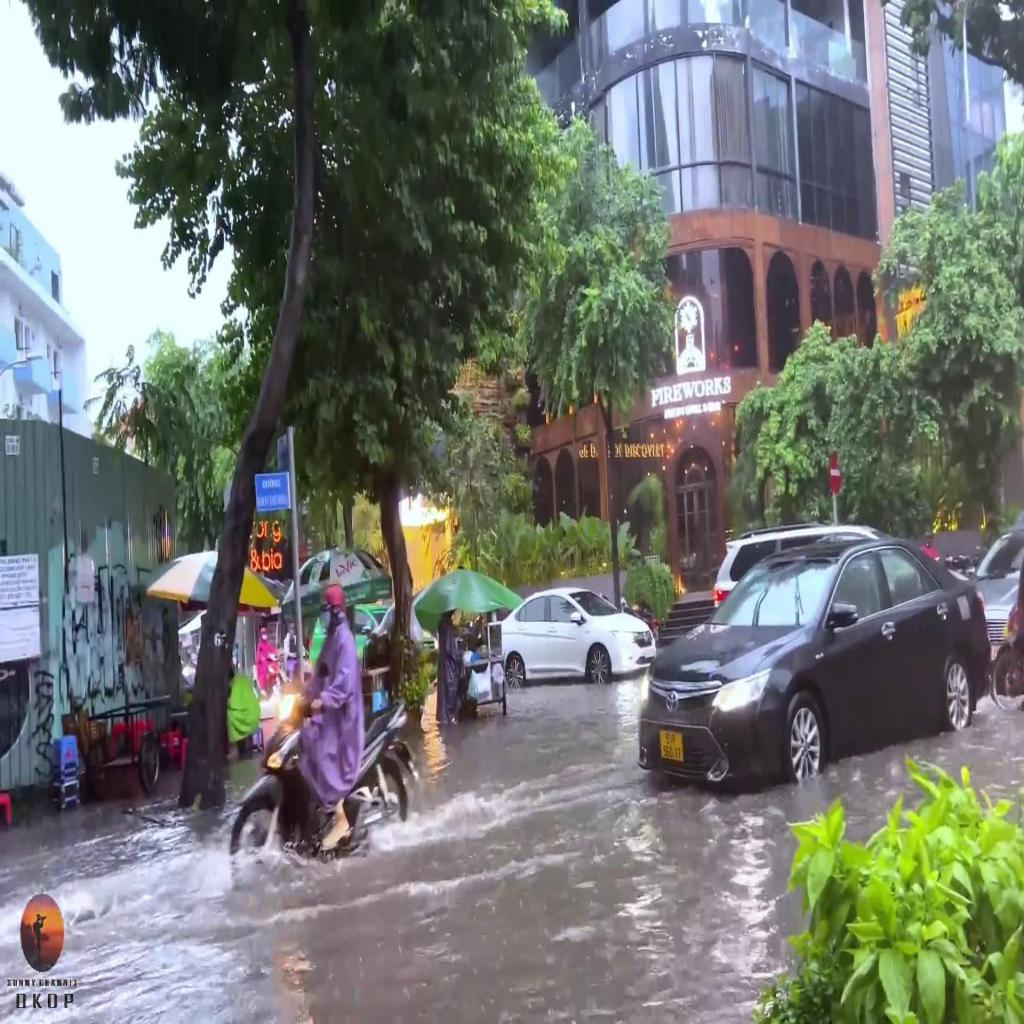cam_xe_di_nguoc_chieu: (828, 449, 842, 494)
